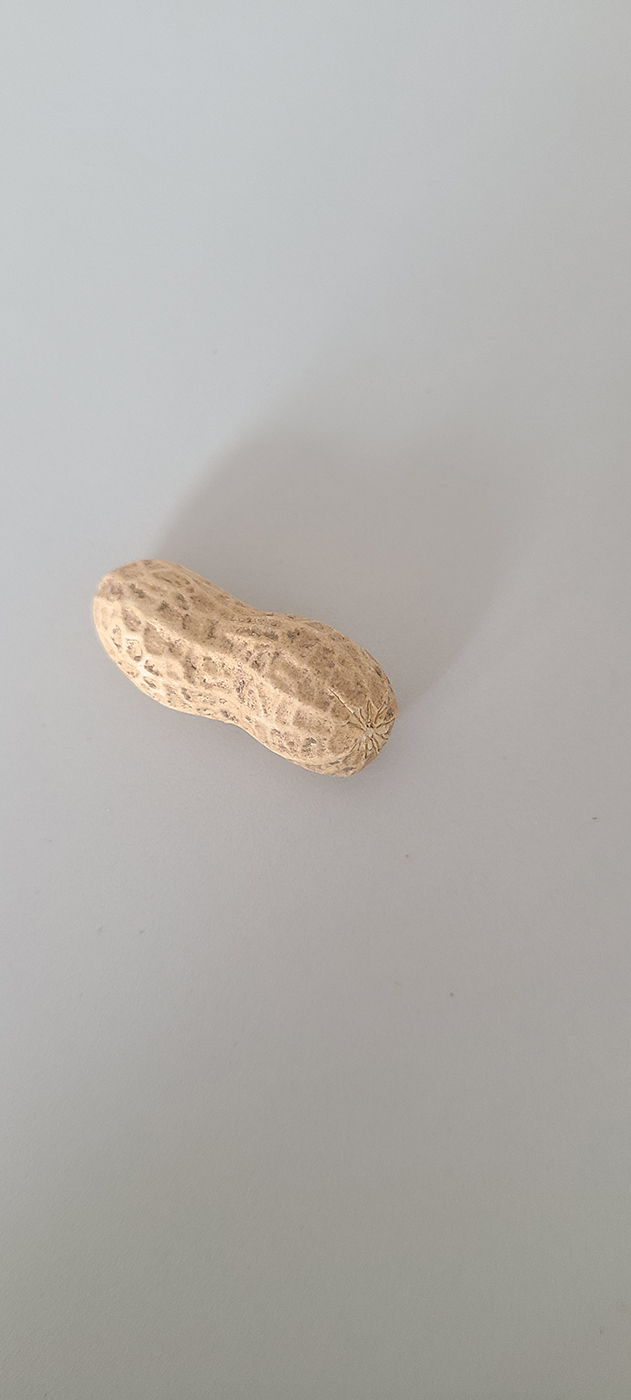h: (88, 557, 397, 775)
